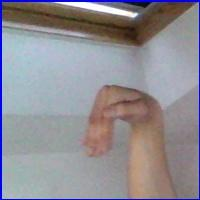del: (80, 80, 164, 171)
